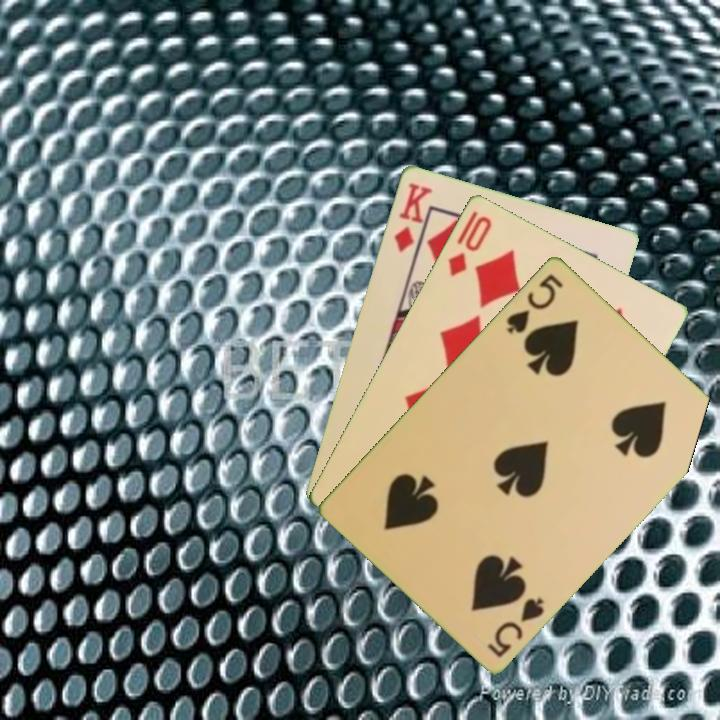10d: (444, 207, 495, 280)
5s: (502, 269, 567, 336), (484, 593, 547, 660)
Kd: (390, 178, 436, 255)
